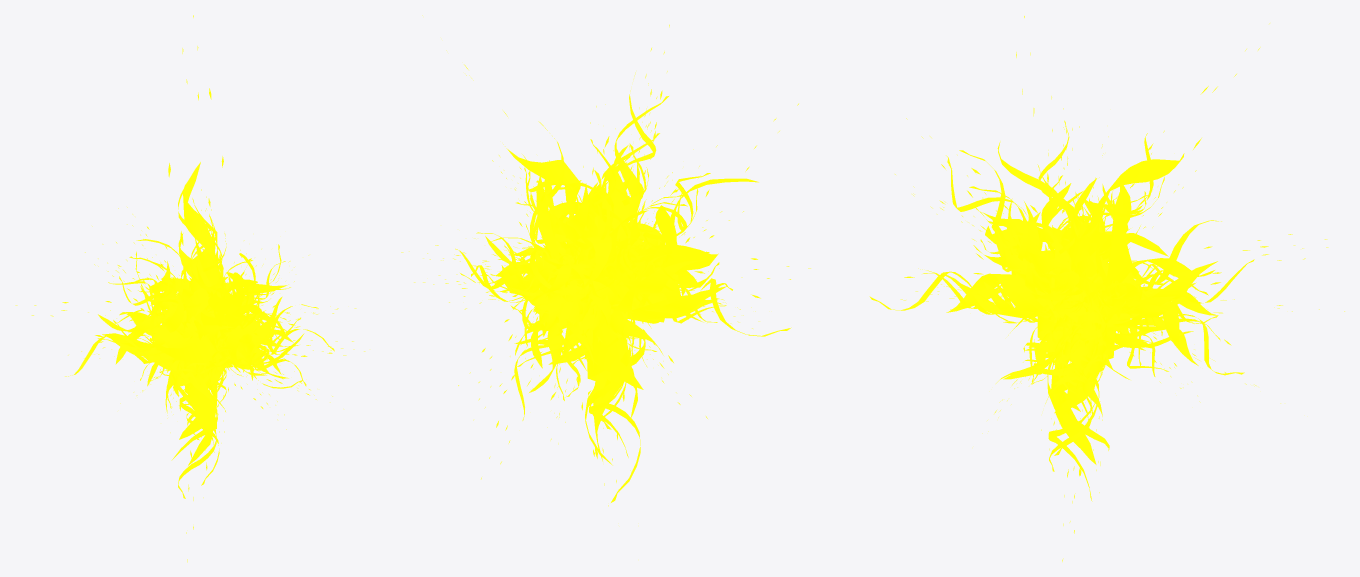
Rendered from Fire.gltf.
3 views of the same model, side by side, from view 1: azimuth 30°, elevation 25°; view 2: azimuth 150°, elevation 25°; view 3: azimuth 270°, elevation 25° (orthographic). The views are drawn at different scales.
Parts seen in each view (by area): view 1: Cylinder.169, Cylinder.127, Cylinder.123, Cylinder.045, Cylinder.011, Cylinder.042, Cylinder.021, Cylinder.009, Cylinder.053, Cylinder.173, Cylinder.014, Cylinder.051 (+4 smaller); view 2: Cylinder.169, Cylinder.123, Cylinder.122, Cylinder.109, Cylinder.009, Cylinder.011, Cylinder.053, Cylinder.127, Cylinder.173, Cylinder.153, Cylinder.013, Cylinder.051 (+17 smaller); view 3: Cylinder.021, Cylinder.053, Cylinder.127, Cylinder.051, Cylinder.123, Cylinder.109, Cylinder.011, Cylinder.122, Cylinder.153, Cylinder.006, Cylinder.173, Cylinder.009 (+6 smaller).
Part boxes in pixels (x1,y1,x2,y2): Cylinder.169: (92, 226, 218, 380); Cylinder.127: (168, 15, 223, 277); Cylinder.123: (178, 169, 220, 361); Cylinder.045: (65, 325, 231, 376); Cylinder.011: (173, 375, 217, 498); Cylinder.042: (121, 319, 272, 371); Cylinder.021: (219, 327, 302, 388); Cylinder.009: (165, 293, 216, 562); Cylinder.053: (207, 244, 281, 323); Cylinder.173: (129, 256, 199, 367); Cylinder.014: (186, 386, 215, 465); Cylinder.051: (200, 253, 257, 325); Cylinder.169: (606, 103, 798, 347); Cylinder.123: (536, 121, 640, 260); Cylinder.122: (536, 176, 637, 309); Cylinder.109: (514, 246, 592, 420); Cylinder.009: (583, 231, 645, 471); Cylinder.011: (577, 311, 640, 502); Cylinder.053: (601, 72, 659, 222); Cylinder.127: (422, 15, 581, 217); Cylinder.173: (631, 173, 710, 276); Cylinder.153: (529, 235, 630, 295); Cylinder.013: (587, 335, 628, 457); Cylinder.051: (602, 96, 668, 251); Cylinder.021: (869, 271, 1050, 323); Cylinder.053: (947, 157, 1071, 284); Cylinder.127: (1075, 23, 1269, 251); Cylinder.051: (959, 150, 1058, 275); Cylinder.123: (1053, 133, 1153, 255); Cylinder.109: (1100, 257, 1244, 375); Cylinder.011: (1048, 361, 1099, 501); Cylinder.122: (1008, 200, 1132, 335); Cylinder.153: (1093, 220, 1327, 284); Cylinder.006: (1069, 178, 1097, 277); Cylinder.173: (1037, 120, 1073, 249); Cylinder.009: (1047, 226, 1114, 561).
Bounding box in the file's own units: 27.91 × 37.32 × 28.69.
